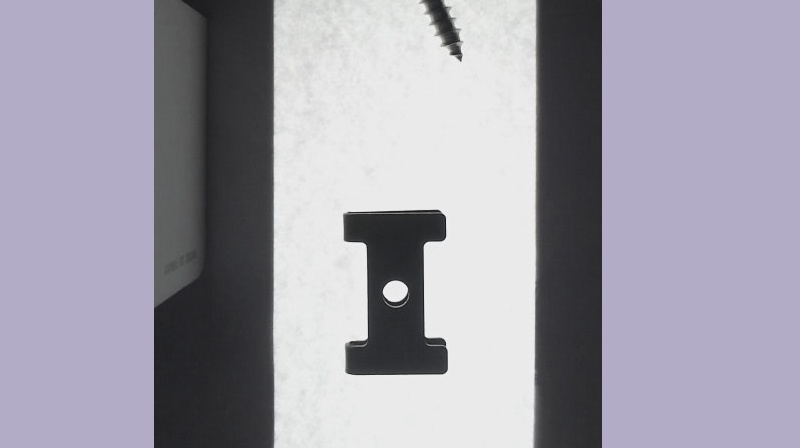O002: (341, 206, 450, 373)
S001: (367, 0, 463, 61)
